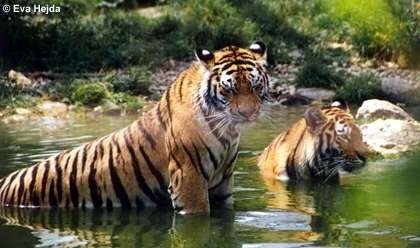tigre: (1, 37, 274, 217), (258, 98, 375, 191)
